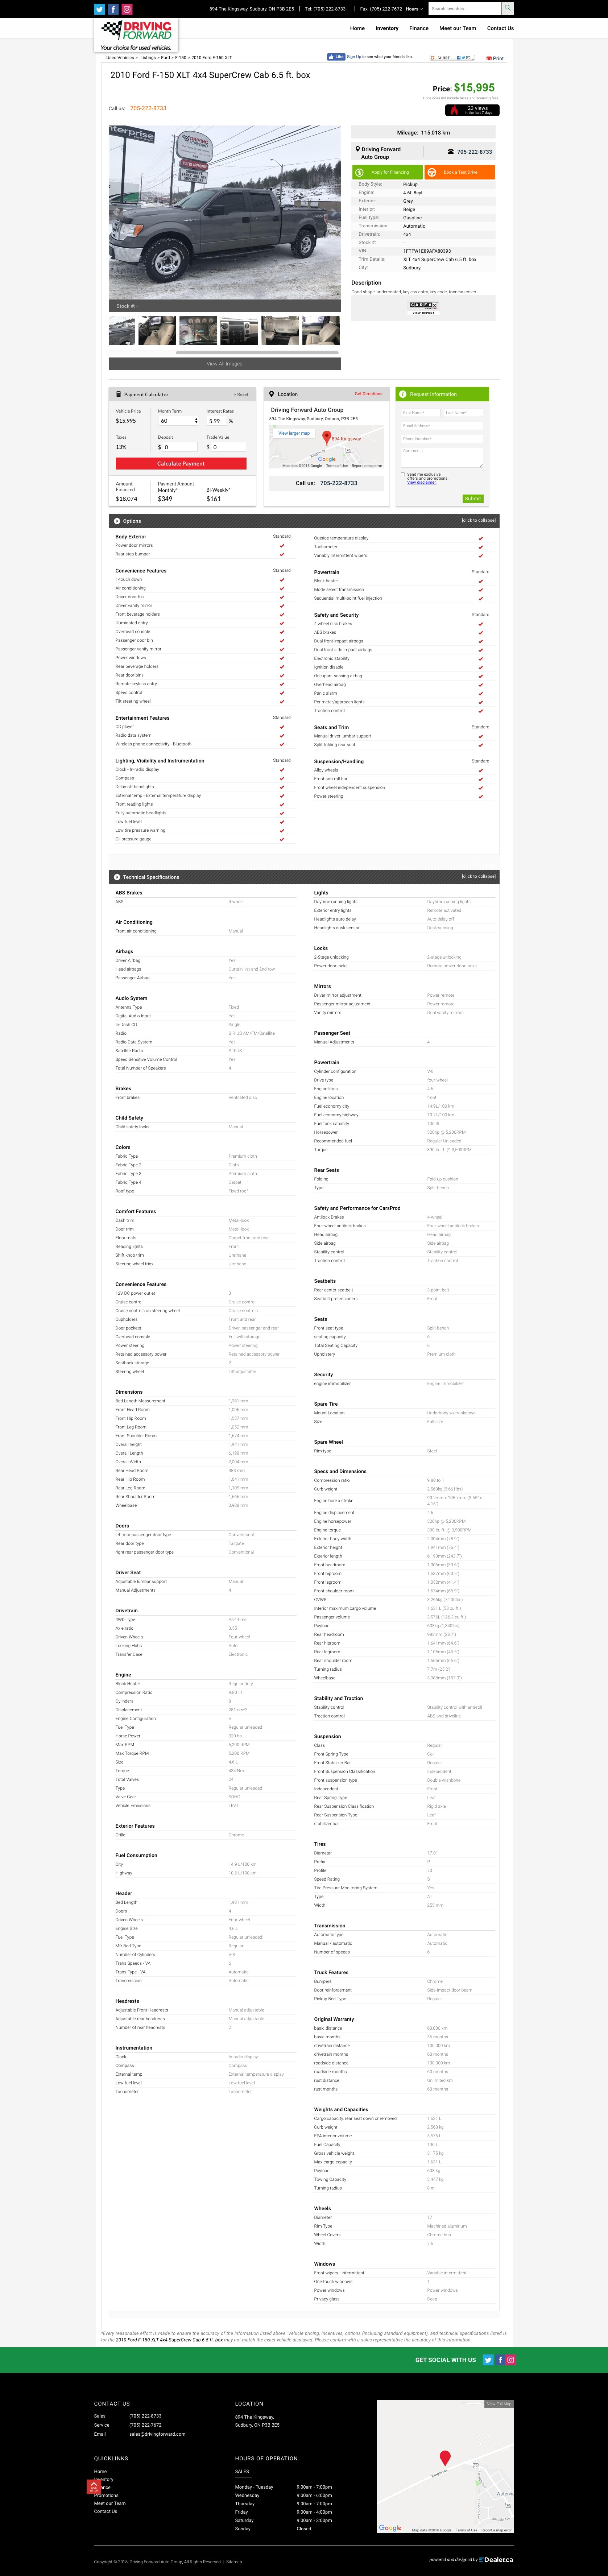car: (325, 207, 342, 222)
